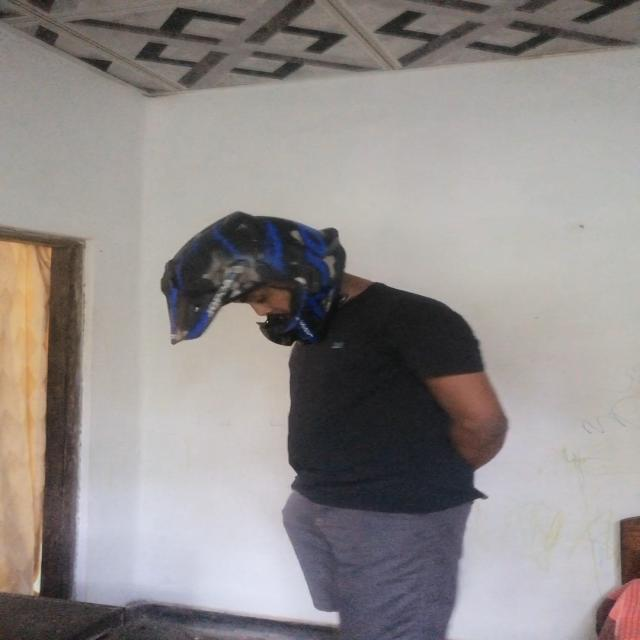Helmet_Wearer: (162, 209, 359, 345)
Person: (232, 208, 524, 640)
